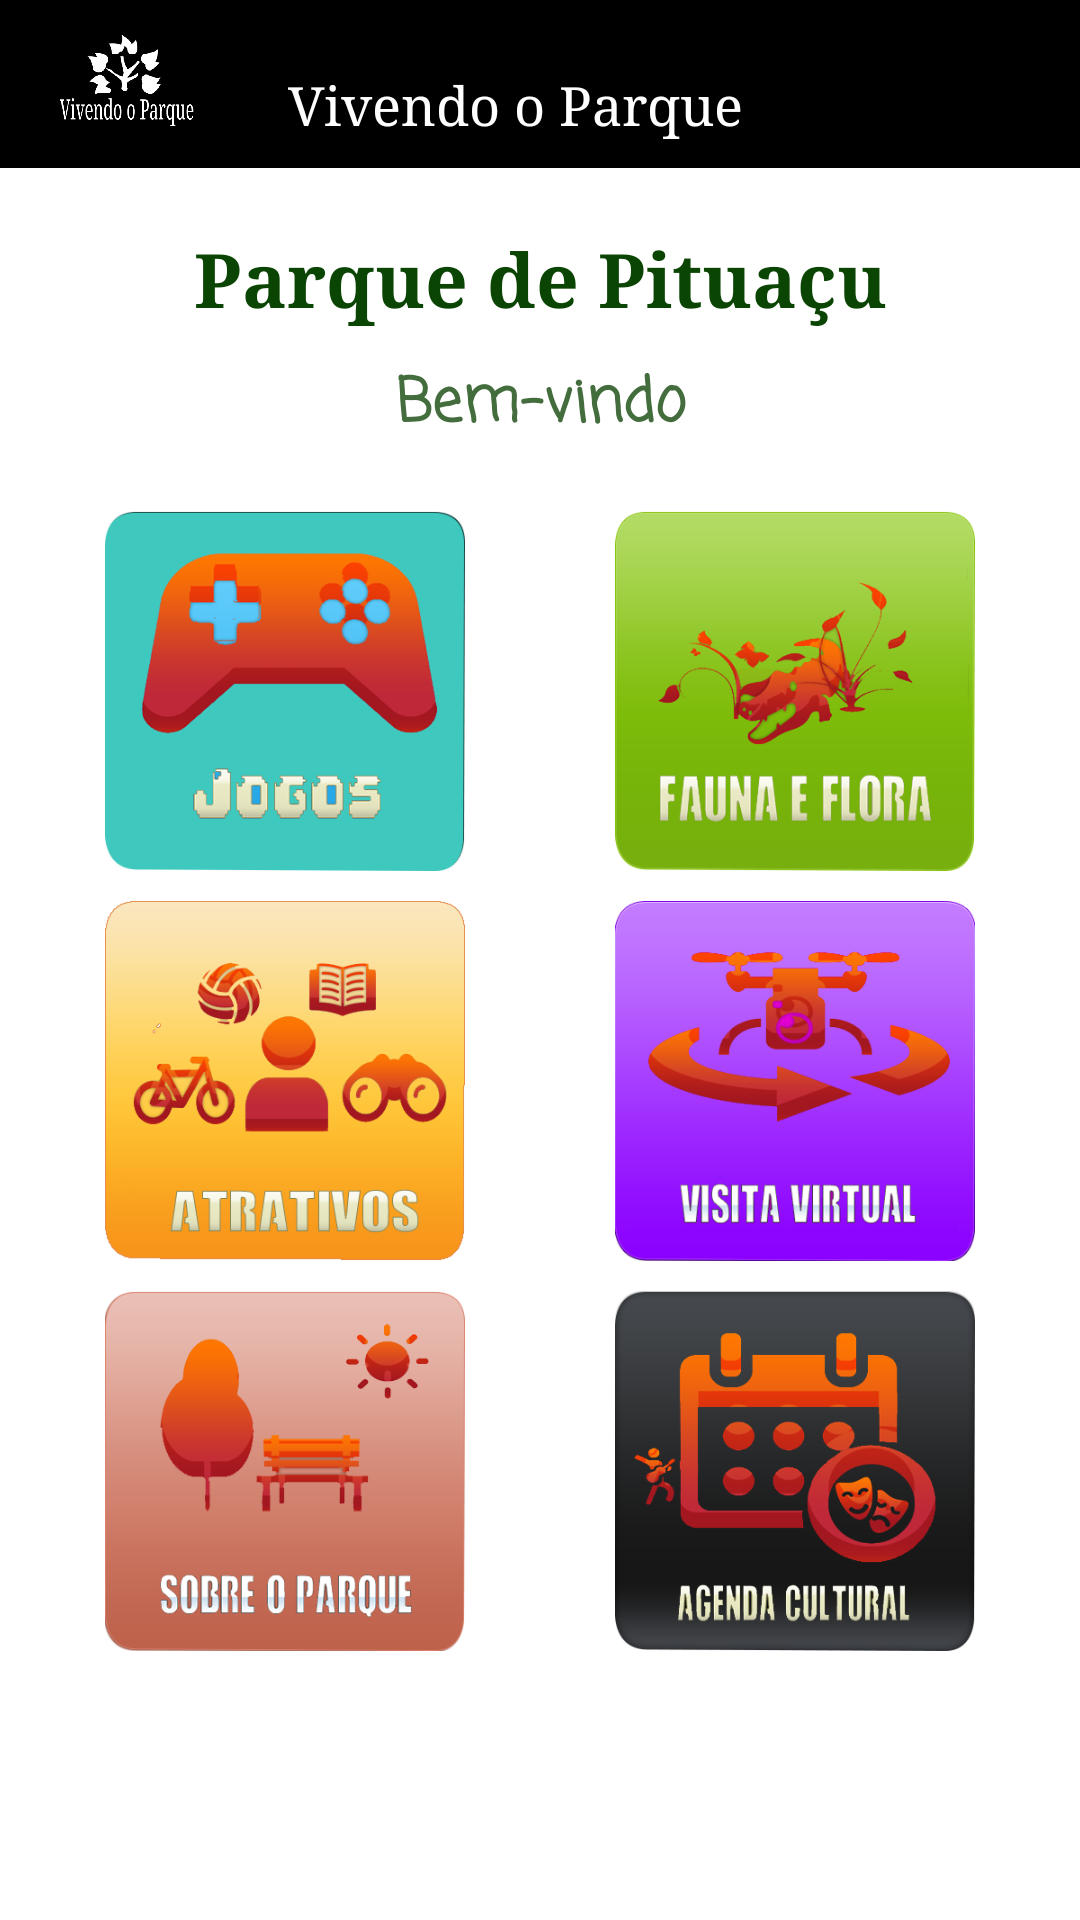

Named icons in this screenshot (1080 x 1920) and their bounding boxes, (x1, y1, x2, y2):
entreterimento: (105, 901, 465, 1260)
